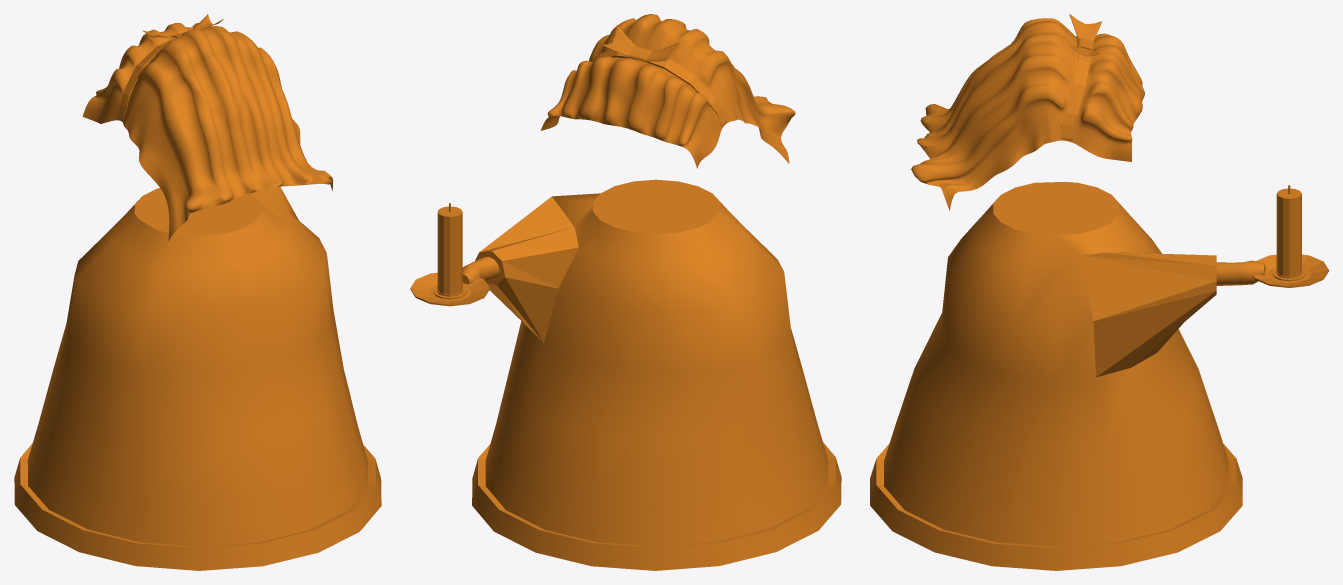
Rendered from Main_Char_Body.FBX.
3 views of the same model, side by side, from view 1: azimuth 30°, elevation 25°; view 2: azimuth 150°, elevation 25°; view 3: azimuth 270°, elevation 25° (orthographic).
Parts seen in each view (by area): view 1: Cylinder001; view 2: Cylinder001; view 3: Cylinder001.
Boxes of the visible parts, <box> form: Cylinder001: <box>14,14,381,570</box>; Cylinder001: <box>410,14,841,570</box>; Cylinder001: <box>870,14,1328,570</box>.
Size of the model in its own units: 77.26 by 107 by 95.15.
